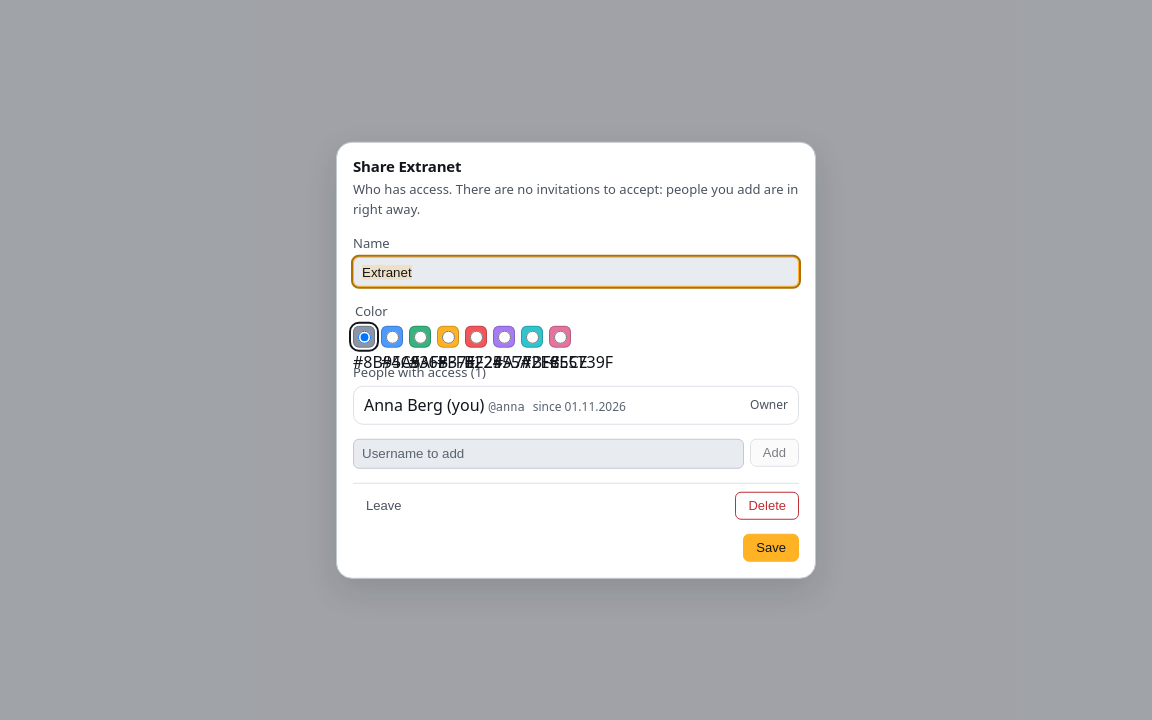
sharing a project (S5#7) › lists who has access with their role, and says who was added or is unknown
This screenshot has width=1152, height=720.
Expected: the text "Anna Berg" shows "(you)", [443,394,484,416]
Expected: the text "Owner" is shown, [750,396,788,414]
Type "nobody" into the field labelled "Username to add". click: (548, 453)
box: [353,438,744,468]
Then press Enter
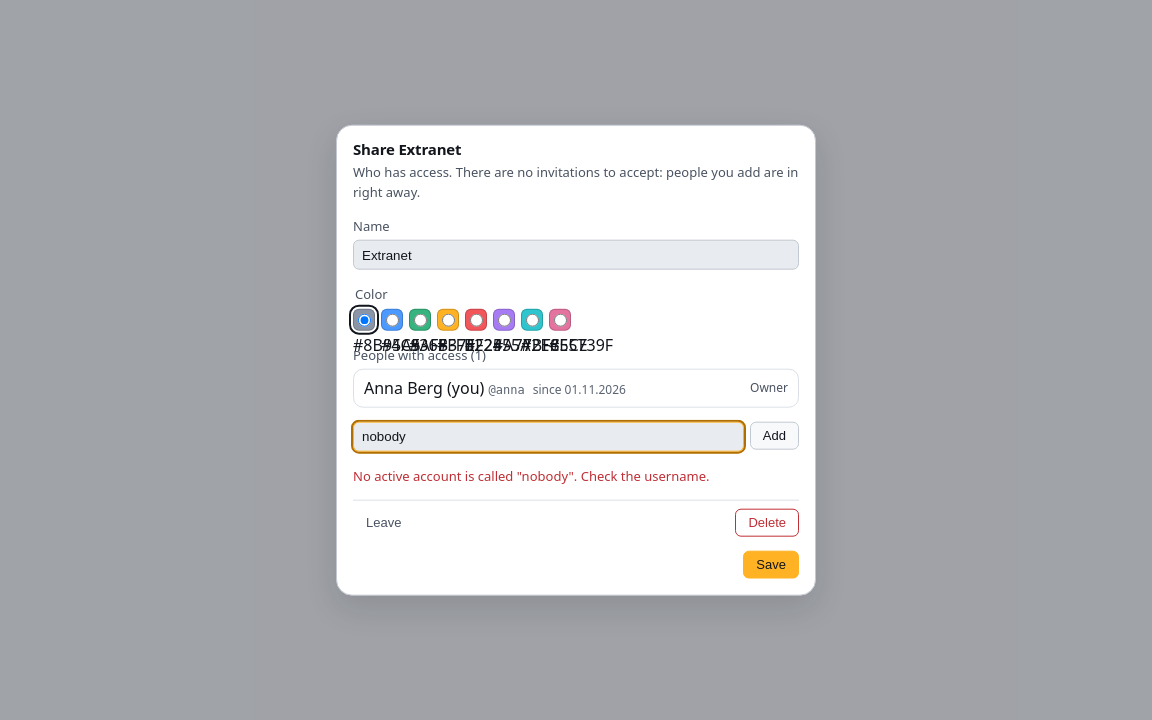
Expected: the message reads "No active account is called \"nobody\". Check the username.", [353,466,710,484]
Replace the text in the field named "Username to add" with "@bobo anna". click: (548, 436)
box: [353,421,744,451]
Then press Enter
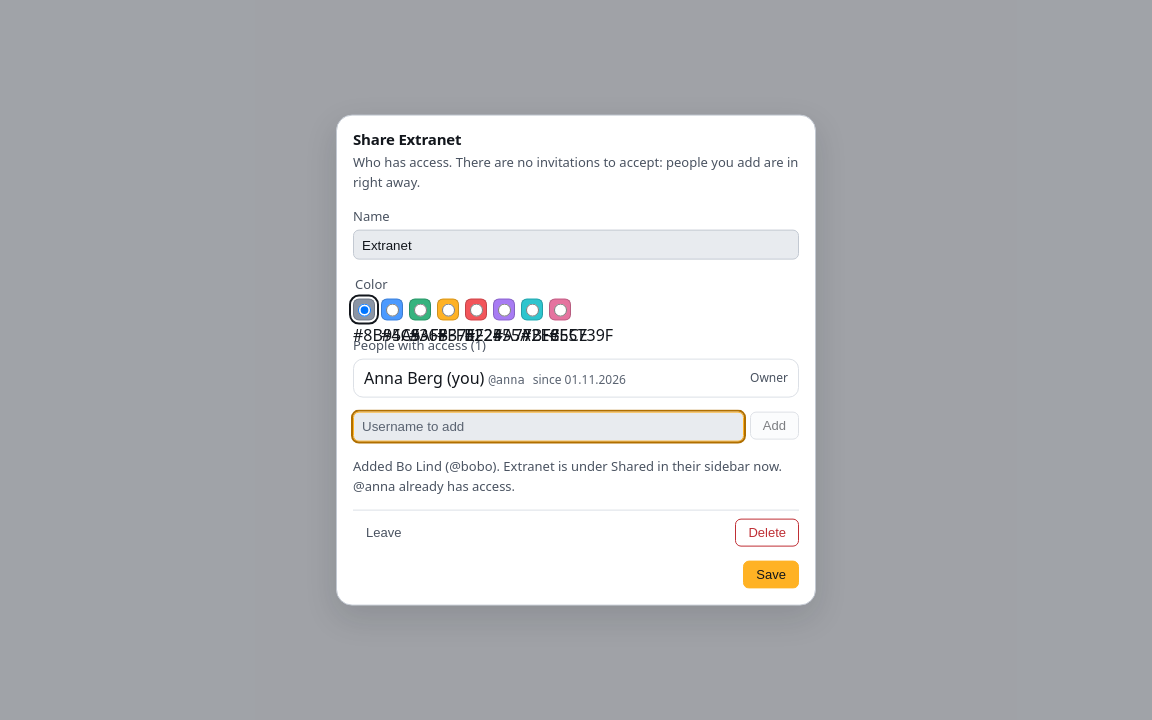
Expected: the message shows "Added Bo Lind (@bobo). Extranet is under Shared in their sidebar now. @anna already has access.", [353,456,782,494]
